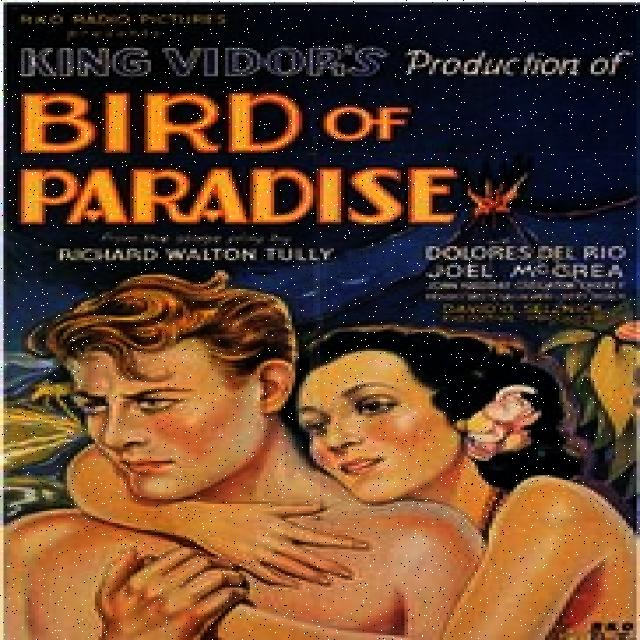movie-judul: (3, 82, 467, 230)
picture: (8, 268, 640, 639)
